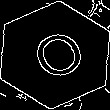O_SE: (21, 23, 89, 87)
